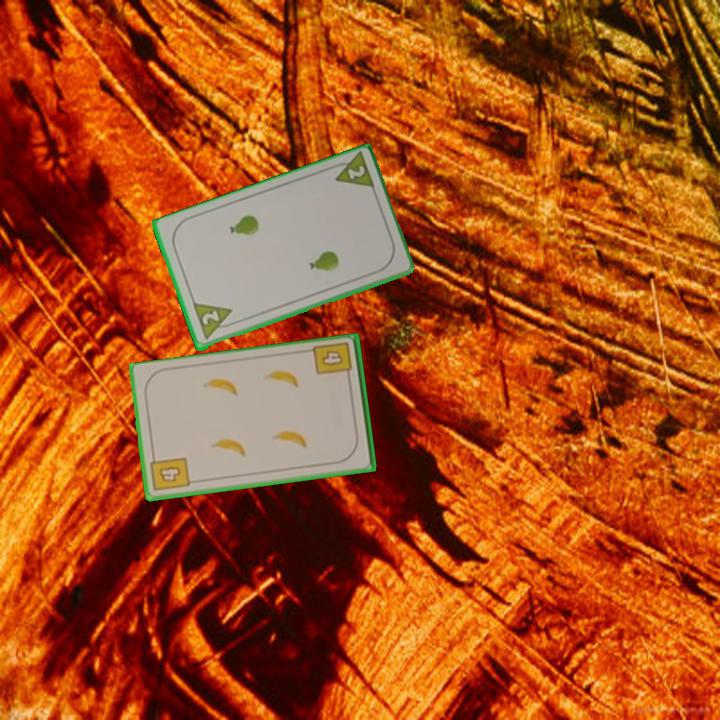2p: (326, 150, 378, 193), (189, 300, 239, 343)
4b: (310, 339, 355, 384), (147, 451, 192, 494)
